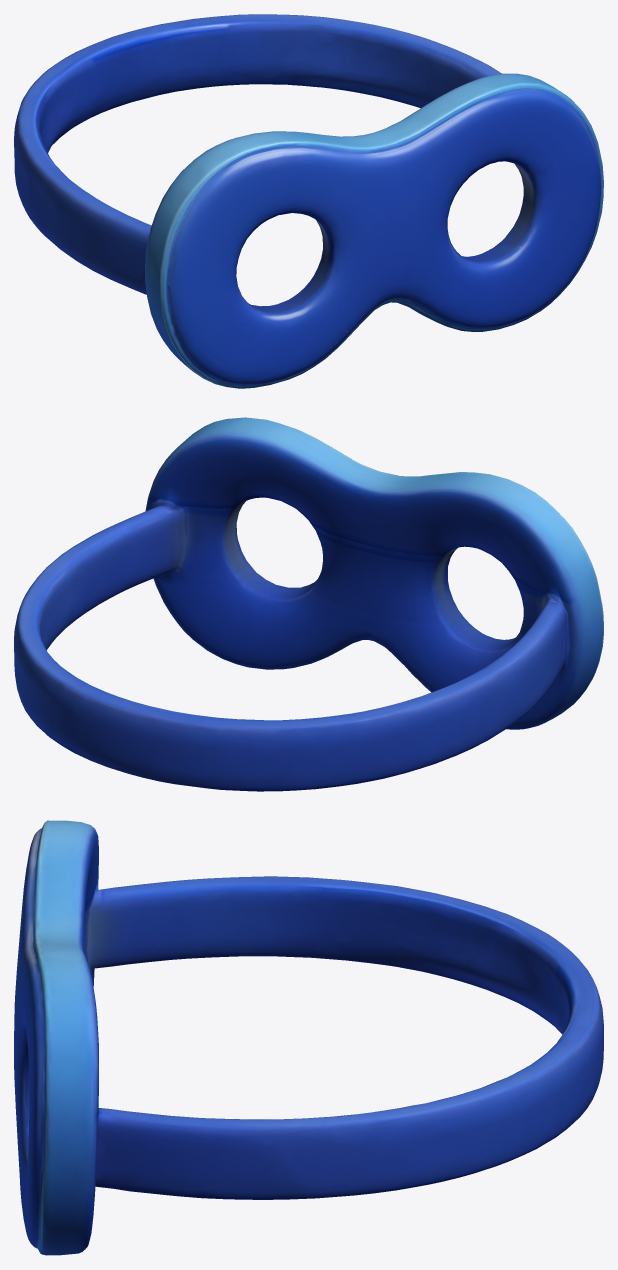
Rendered from cs-hero-mask.glb.
3 renders of one model, top to bottom at view 1: azimuth 30°, elevation 25°; view 2: azimuth 150°, elevation 25°; view 3: azimuth 270°, elevation 25°, orthographic. The views are drawn at different scales.
Visible parts, largest first — view 1: tripo_node_2541b89a-0054-4963-a04d-bc47fd86345c; view 2: tripo_node_2541b89a-0054-4963-a04d-bc47fd86345c; view 3: tripo_node_2541b89a-0054-4963-a04d-bc47fd86345c.
Boxes of the visible parts, x1,y1,x2,y2 form: tripo_node_2541b89a-0054-4963-a04d-bc47fd86345c: [14, 14, 603, 388]; tripo_node_2541b89a-0054-4963-a04d-bc47fd86345c: [14, 417, 603, 791]; tripo_node_2541b89a-0054-4963-a04d-bc47fd86345c: [14, 820, 603, 1255].
Size of the model in its own units: 1 by 0.5011 by 0.9739.
1 material, 1 textured.
